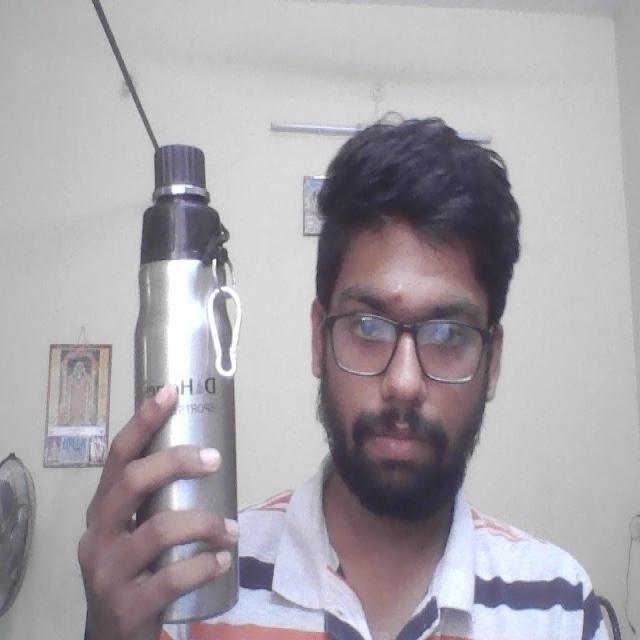Drinking: (128, 142, 229, 623)
